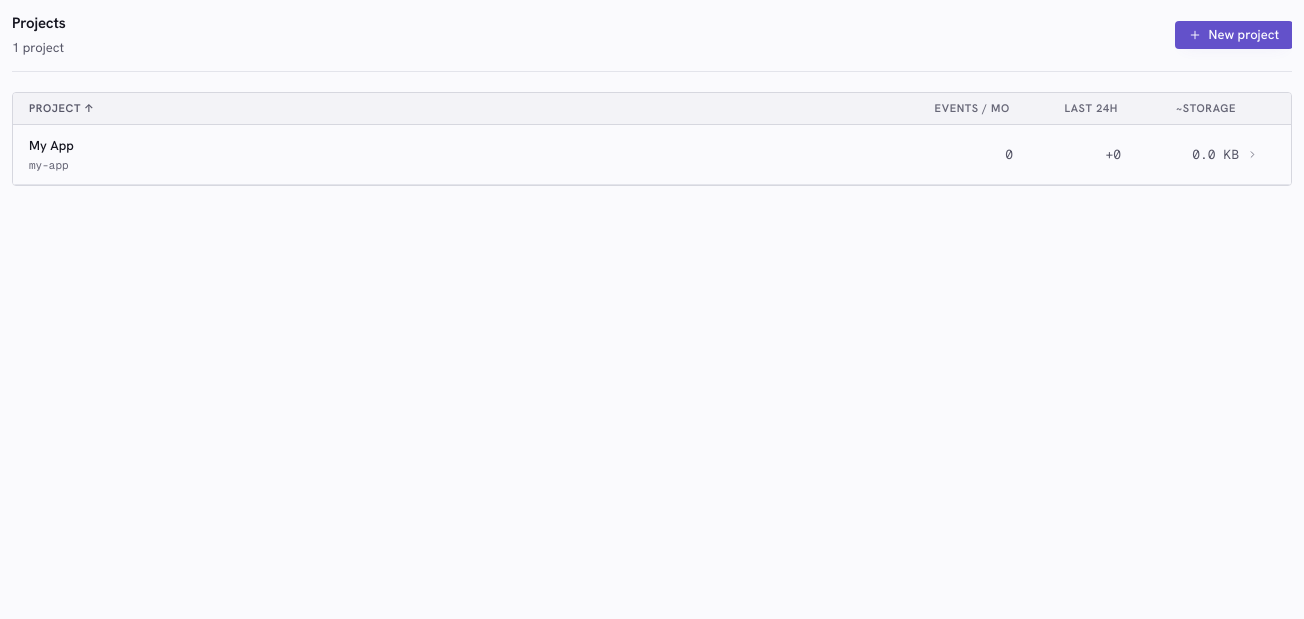
it: ProjectsTab › edit project › shows edit form when Edit button is clicked in expanded project
Click the button "My App my-app 0 +0 0.0 KB": (51, 145) [13, 126, 1291, 184]
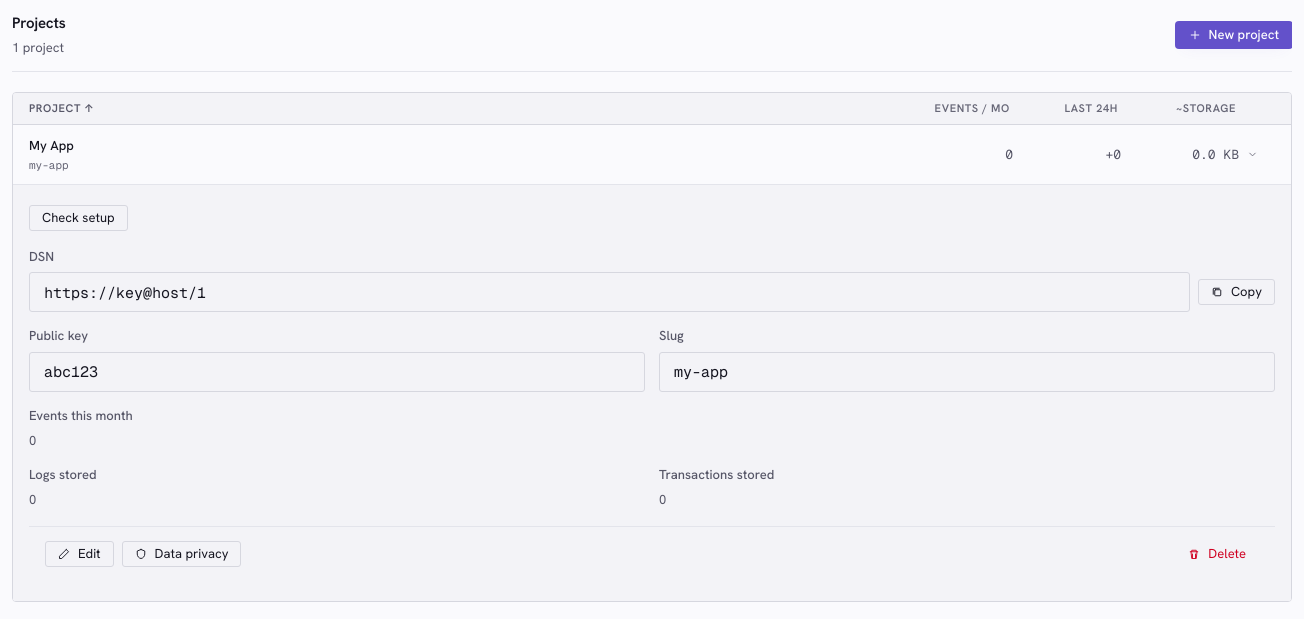
Expected: the button "Edit" is shown
Click the button "Edit": (79, 554) [45, 540, 114, 566]
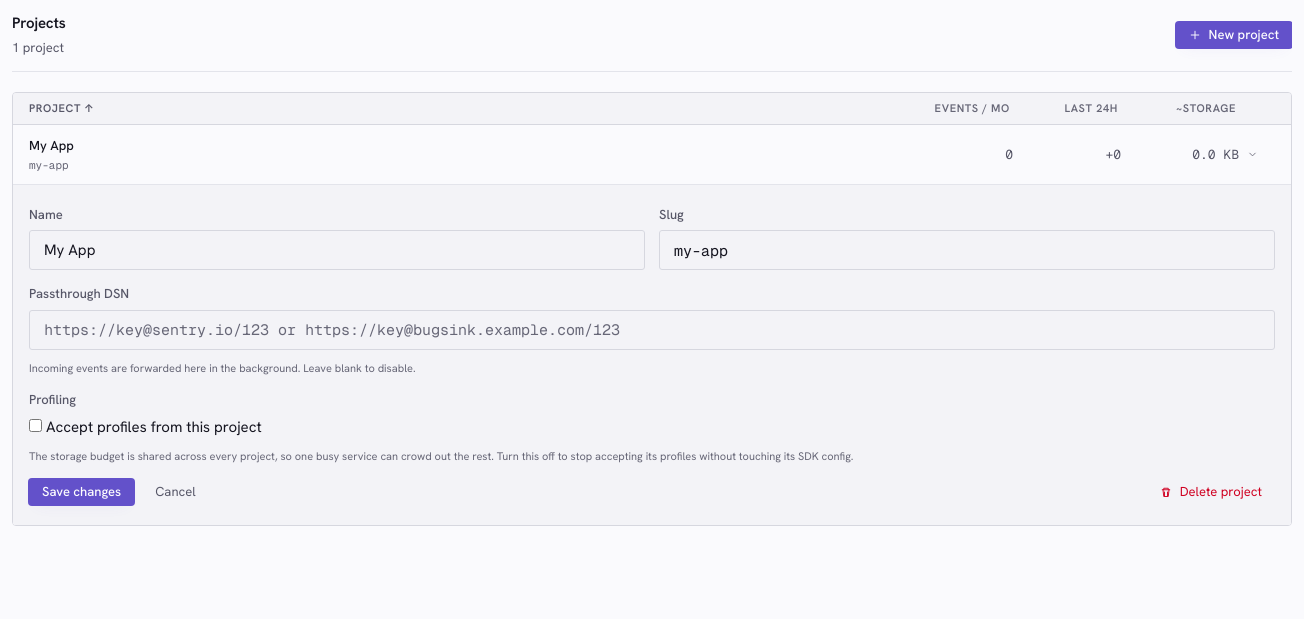
Expected: the form is shown, [29, 204, 1275, 504]
Expected: the field with id "edit-name-p1" holds "My App", [29, 230, 645, 270]
